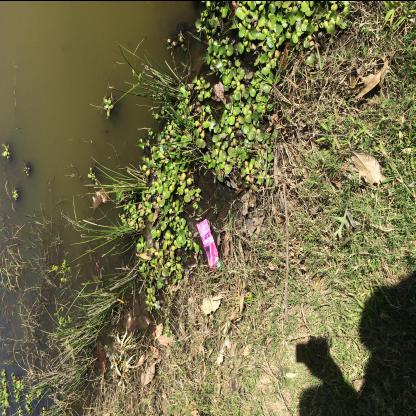diger: (196, 218, 219, 270)
